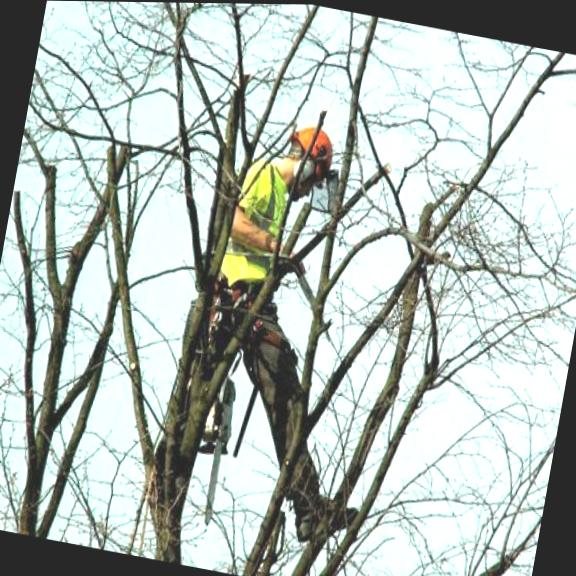safety_vest: (220, 147, 298, 290)
